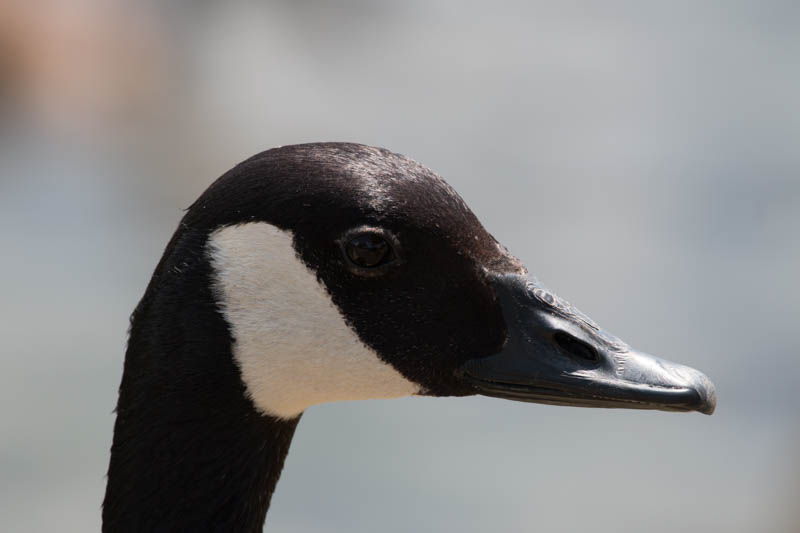goose-head: (119, 141, 715, 418)
